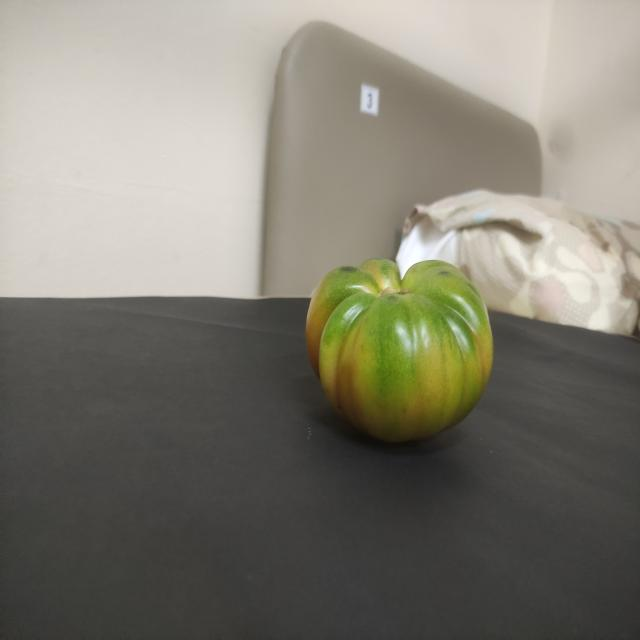yesil: (294, 225, 518, 444)
